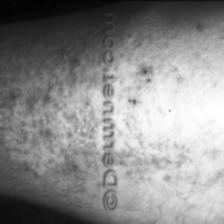Non-Cancerous Skin Condition: (126, 40, 222, 206), (0, 37, 90, 185)
